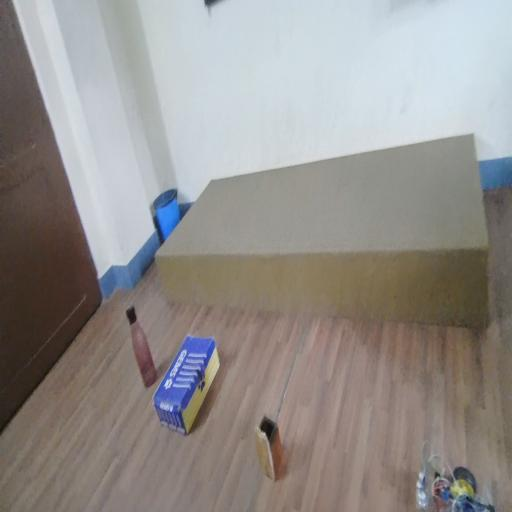Bottle: (125, 286, 163, 386)
